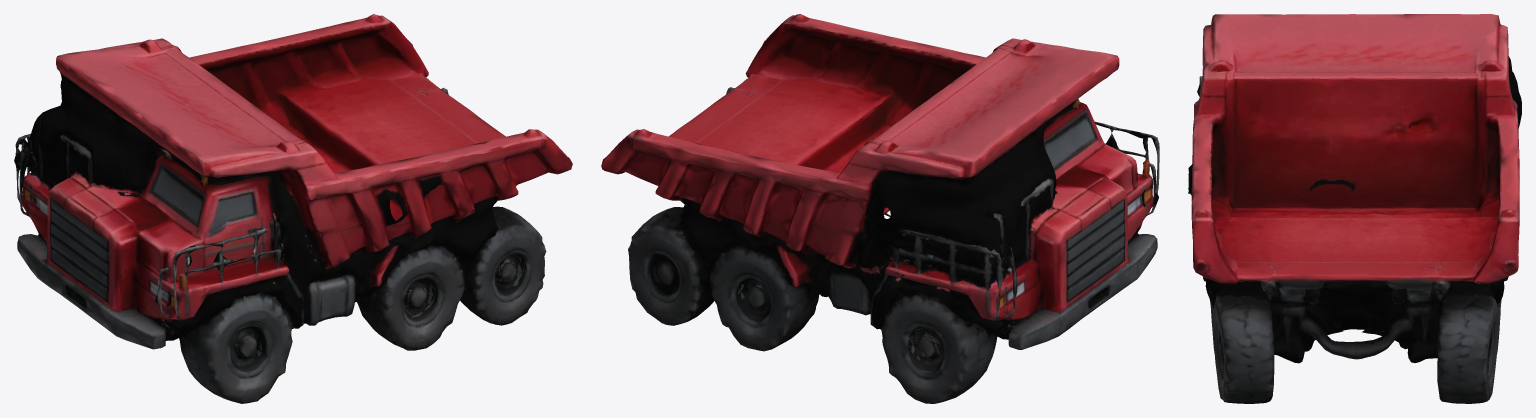
3 views of the same model, side by side, from view 1: azimuth 30°, elevation 25°; view 2: azimuth 150°, elevation 25°; view 3: azimuth 270°, elevation 25° (orthographic). The views are drawn at different scales.
Parts seen in each view (by area): view 1: Mesh_0; view 2: Mesh_0; view 3: Mesh_0.
Part boxes in pixels (left/top/right/bottom): Mesh_0: left=14, top=14, right=572, bottom=403; Mesh_0: left=601, top=14, right=1159, bottom=403; Mesh_0: left=1188, top=14, right=1521, bottom=403.
Bounding box in the file's own units: 4.44 × 2.55 × 3.15.
Materials: 1 (1 with a texture image).
